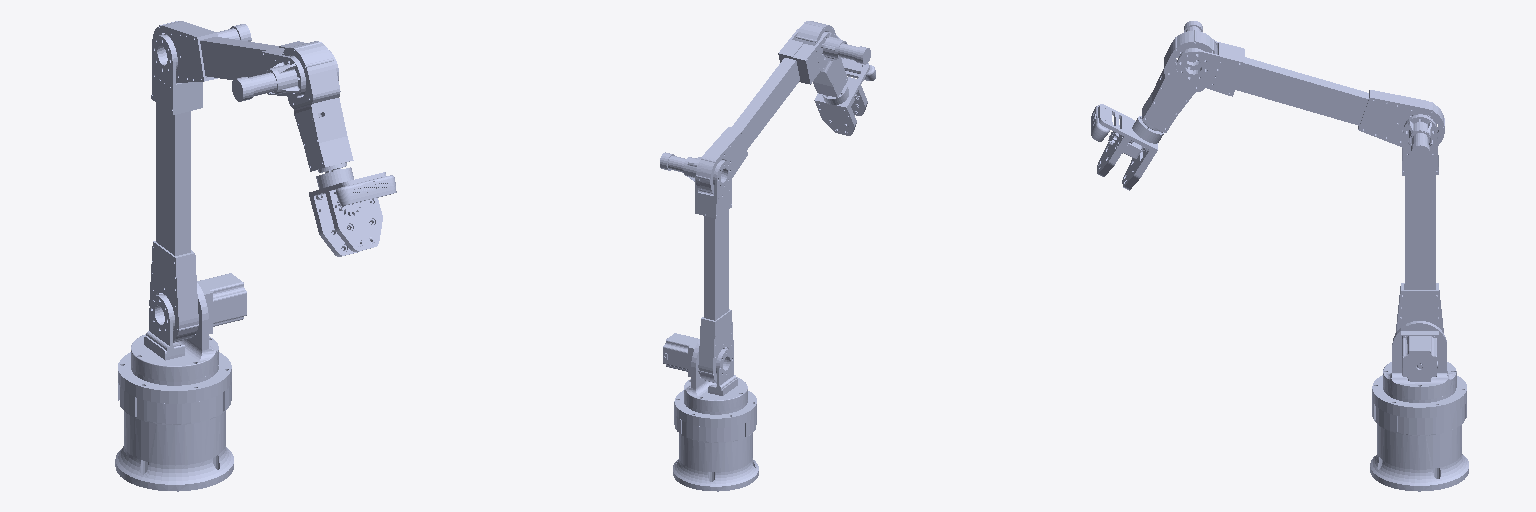
URDF robot description (proxima_manipulator):
<?xml version="1.0" encoding="utf-8"?>
<!-- This URDF was automatically created by SolidWorks to URDF Exporter! Originally created by [author] ([email redacted]) 
     Commit Version: 1.6.0-4-g7f85cfe  Build Version: 1.6.7995.38578
     For more information, please see http://wiki.ros.org/sw_urdf_exporter -->
<robot
  name="proxima_manipulator">
  
  <link name="world"/>
  <joint name="base_joint" type="fixed">
    <parent link="world"/>
    <child link="base_link"/>
    <origin rpy="0 0 3.142" xyz="0.0 0.0 0.0"/>
    </joint>
  
  <link
    name="base_link">
    <inertial>
      <origin
        xyz="5.89900924100442E-07 -5.82635127656639E-07 0.0844077193187946"
        rpy="0 0 0" />
      <mass
        value="1.14715214327679" />
      <inertia
        ixx="0.00297605346011453"
        ixy="-1.28898690956909E-07"
        ixz="-2.94048693205158E-08"
        iyy="0.00297587811058845"
        iyz="3.89686890063112E-08"
        izz="0.00362946503703709" />
    </inertial>
    <visual>
      <origin
        xyz="0 0 0"
        rpy="0 0 0" />
      <geometry>
        <mesh
          filename="package://proxima_manipulator/meshes/base_link.STL" />
      </geometry>
      <material
        name="">
        <color
          rgba="0.792156862745098 0.819607843137255 0.933333333333333 1" />
      </material>
    </visual>
    <collision>
      <origin
        xyz="0 0 0"
        rpy="0 0 0" />
      <geometry>
        <mesh
          filename="package://proxima_manipulator/meshes/base_link.STL" />
      </geometry>
    </collision>
  </link>
  <link
    name="link1">
    <inertial>
      <origin
        xyz="-0.02303554449658 0.0598261439960179 -0.00152128479536754"
        rpy="0 0 0" />
      <mass
        value="0.61136208657295" />
      <inertia
        ixx="0.000676546033753411"
        ixy="6.26097408187564E-05"
        ixz="3.12553110077658E-06"
        iyy="0.000696662466663964"
        iyz="4.15108216757231E-06"
        izz="0.000629760400233308" />
    </inertial>
    <visual>
      <origin
        xyz="0 0 0"
        rpy="0 0 0" />
      <geometry>
        <mesh
          filename="package://proxima_manipulator/meshes/link1.STL" />
      </geometry>
      <material
        name="">
        <color
          rgba="0.792156862745098 0.819607843137255 0.933333333333333 1" />
      </material>
    </visual>
    <collision>
      <origin
        xyz="0 0 0"
        rpy="0 0 0" />
      <geometry>
        <mesh
          filename="package://proxima_manipulator/meshes/link1.STL" />
      </geometry>
    </collision>
  </link>
  <joint
    name="joint1"
    type="revolute">
    <origin
      xyz="0 0 0.139"
      rpy="1.5707963267949 0 0.06638110906424" />
    <parent
      link="base_link" />
    <child
      link="link1" />
    <axis
      xyz="0 1 0" />
    <limit
      lower="0"
      upper="6.28"
      effort="300"
      velocity="3" />
  </joint>
  <link
    name="link2">
    <inertial>
      <origin
        xyz="-0.00216465968461942 -0.0472925206404818 0.230220242332757"
        rpy="0 0 0" />
      <mass
        value="0.38181439972666" />
      <inertia
        ixx="0.000941247684324127"
        ixy="-7.13786139180788E-06"
        ixz="3.91099754328085E-05"
        iyy="0.000840304873940375"
        iyz="0.000132624480798902"
        izz="0.000234385525945225" />
    </inertial>
    <visual>
      <origin
        xyz="0 0 0"
        rpy="0 0 0" />
      <geometry>
        <mesh
          filename="package://proxima_manipulator/meshes/link2.STL" />
      </geometry>
      <material
        name="">
        <color
          rgba="0.792156862745098 0.819607843137255 0.933333333333333 1" />
      </material>
    </visual>
    <collision>
      <origin
        xyz="0 0 0"
        rpy="0 0 0" />
      <geometry>
        <mesh
          filename="package://proxima_manipulator/meshes/link2.STL" />
      </geometry>
    </collision>
  </link>
  <joint
    name="joint2"
    type="revolute">
    <origin
      xyz="0 0.0935000000000001 0"
      rpy="1.36961712465034 0.0798053031468139 -3.07640848847956" />
    <parent
      link="link1" />
    <child
      link="link2" />
    <axis
      xyz="0.997797583094881 0 0.0663323689462047" />
    <limit
      lower="-1.48"
      upper="1.48"
      effort="300"
      velocity="3" />
  </joint>
  <link
    name="link3">
    <inertial>
      <origin
        xyz="-0.0100219656341276 0.246047292844653 0.0090796809436352"
        rpy="0 0 0" />
      <mass
        value="0.427190530217147" />
      <inertia
        ixx="0.000999064602408102"
        ixy="1.05015196942548E-05"
        ixz="6.12464858498111E-06"
        iyy="0.000228416018088118"
        iyz="-2.80475702692715E-05"
        izz="0.000912793058488037" />
    </inertial>
    <visual>
      <origin
        xyz="0 0 0"
        rpy="0 0 0" />
      <geometry>
        <mesh
          filename="package://proxima_manipulator/meshes/link3.STL" />
      </geometry>
      <material
        name="">
        <color
          rgba="0.792156862745098 0.819607843137255 0.933333333333333 1" />
      </material>
    </visual>
    <collision>
      <origin
        xyz="0 0 0"
        rpy="0 0 0" />
      <geometry>
        <mesh
          filename="package://proxima_manipulator/meshes/link3.STL" />
      </geometry>
    </collision>
  </link>
  <joint
    name="joint3"
    type="revolute">
    <origin
      xyz="-0.0252134458726865 -0.0783840441460631 0.379270569601745"
      rpy="2.99496503119234 -0.132055089452266 0.00971288768970507" />
    <parent
      link="link2" />
    <child
      link="link3" />
    <axis
      xyz="-0.997797583094835 0 -0.0663323689468866" />
    <limit
      lower="0"
      upper="2.96"
      effort="300"
      velocity="3" />
  </joint>
  <link
    name="link4">
    <inertial>
      <origin
        xyz="0.00636013910086945 6.35109644103737E-05 -0.0540678200298018"
        rpy="0 0 0" />
      <mass
        value="0.215390527753128" />
      <inertia
        ixx="0.000531350146196299"
        ixy="-7.37094030599829E-08"
        ixz="3.11549425204286E-05"
        iyy="0.000443875407065724"
        iyz="6.99835184177799E-07"
        izz="0.00011169485430132" />
    </inertial>
    <visual>
      <origin
        xyz="0 0 0"
        rpy="0 0 0" />
      <geometry>
        <mesh
          filename="package://proxima_manipulator/meshes/link4.STL" />
      </geometry>
      <material
        name="">
        <color
          rgba="0.792156862745098 0.819607843137255 0.933333333333333 1" />
      </material>
    </visual>
    <collision>
      <origin
        xyz="0 0 0"
        rpy="0 0 0" />
      <geometry>
        <mesh
          filename="package://proxima_manipulator/meshes/link4.STL" />
      </geometry>
    </collision>
  </link>
  <joint
    name="joint4"
    type="revolute">
    <origin
      xyz="-0.0010238 0.3878 0.0154"
      rpy="-2.9772 0.00089664 3.1307" />
    <parent
      link="link3" />
    <child
      link="link4" />
    <axis
      xyz="-0.99766 -0.00042801 -0.06837" />
    <limit
      lower="-2.84"
      upper="0"
      effort="300"
      velocity="3" />
  </joint>
  <link
    name="link5">
    <inertial>
      <origin
        xyz="0.00371786712021055 0.0233212511324778 -0.116194159187654"
        rpy="0 0 0" />
      <mass
        value="0.246635487348744" />
      <inertia
        ixx="0.000125362493056336"
        ixy="-4.92252749696487E-06"
        ixz="-1.17763756881474E-06"
        iyy="0.000175814678569274"
        iyz="-2.79929590483174E-07"
        izz="0.000136642700304457" />
    </inertial>
    <visual>
      <origin
        xyz="0 0 0"
        rpy="0 0 0" />
      <geometry>
        <mesh
          filename="package://proxima_manipulator/meshes/link5.STL" />
      </geometry>
      <material
        name="">
        <color
          rgba="0.792156862745098 0.819607843137255 0.933333333333333 1" />
      </material>
    </visual>
    <collision>
      <origin
        xyz="0 0 0"
        rpy="0 0 0" />
      <geometry>
        <mesh
          filename="package://proxima_manipulator/meshes/link5.STL" />
      </geometry>
    </collision>
  </link>
  <joint
    name="joint5"
    type="revolute">
    <origin
      xyz="0.00785440188739083 0.000169987875987765 -0.0683995354267096"
      rpy="0.0054593051623277 0.000428982055095075 -0.0823393113788932" />
    <parent
      link="link4" />
    <child
      link="link5" />
    <axis
      xyz="0.0663321663033525 0.00247182816787439 -0.997794534851245" />
    <limit
      lower="0"
      upper="6.28"
      effort="300"
      velocity="3" />
  </joint>
  <link
    name="link6">
    <inertial>
      <origin
        xyz="-0.000152328366238796 0.00158515196790932 -6.19972051277284E-06"
        rpy="0 0 0" />
      <mass
        value="0.00360273828231165" />
      <inertia
        ixx="2.82282719153219E-07"
        ixy="-2.27094022502872E-08"
        ixz="6.44224708059163E-09"
        iyy="5.16678537642924E-07"
        iyz="-3.93868589772816E-10"
        izz="2.59870298318397E-07" />
    </inertial>
    <visual>
      <origin
        xyz="0 0 0"
        rpy="0 0 0" />
      <geometry>
        <mesh
          filename="package://proxima_manipulator/meshes/link6.STL" />
      </geometry>
      <material
        name="">
        <color
          rgba="0.792156862745098 0.819607843137255 0.933333333333333 1" />
      </material>
    </visual>
    <collision>
      <origin
        xyz="0 0 0"
        rpy="0 0 0" />
      <geometry>
        <mesh
          filename="package://proxima_manipulator/meshes/link6.STL" />
      </geometry>
    </collision>
  </link>
  <joint
    name="joint6"
    type="revolute">
    <origin
      xyz="0.012473 0.040866 -0.11678"
      rpy="-0.048992 0.46738 -0.013527" />
    <parent
      link="link5" />
    <child
      link="link6" />
    <axis
      xyz="-0.095656 0.99541 -0.0038932" />
    <limit
      lower="0"
      upper="3.14"
      effort="300"
      velocity="3" />
  </joint>

  <transmission name="tran1">
    <type>transmission_interface/SimpleTransmission</type>
     <joint name="joint1">
     <hardwareInterface>hardware_interface/PositionJointInterface</hardwareInterface>
     </joint>
     <actuator name="motor1">
     <hardwareInterface>hardware_interface/PositionJointInterface</hardwareInterface>
     <mechanicalReduction>1</mechanicalReduction>
     </actuator>
     </transmission>
 
     <transmission name="tran2">
    <type>transmission_interface/SimpleTransmission</type>
     <joint name="joint2">
     <hardwareInterface>hardware_interface/PositionJointInterface</hardwareInterface>
     </joint>
     <actuator name="motor2">
     <hardwareInterface>hardware_interface/PositionJointInterface</hardwareInterface>
     <mechanicalReduction>1</mechanicalReduction>
     </actuator>
     </transmission>
 
     <transmission name="tran3">
    <type>transmission_interface/SimpleTransmission</type>
     <joint name="joint3">
     <hardwareInterface>hardware_interface/PositionJointInterface</hardwareInterface>
     </joint>
     <actuator name="motor3">
     <hardwareInterface>hardware_interface/PositionJointInterface</hardwareInterface>
     <mechanicalReduction>1</mechanicalReduction>
     </actuator>
     </transmission>
 
     <transmission name="tran4">
    <type>transmission_interface/SimpleTransmission</type>
     <joint name="joint4">
     <hardwareInterface>hardware_interface/PositionJointInterface</hardwareInterface>
     </joint>
     <actuator name="motor4">
     <hardwareInterface>hardware_interface/PositionJointInterface</hardwareInterface>
     <mechanicalReduction>1</mechanicalReduction>
     </actuator>
     </transmission>
 
     <transmission name="tran5">
    <type>transmission_interface/SimpleTransmission</type>
     <joint name="joint5">
     <hardwareInterface>hardware_interface/PositionJointInterface</hardwareInterface>
     </joint>
     <actuator name="motor5">
     <hardwareInterface>hardware_interface/PositionJointInterface</hardwareInterface>
     <mechanicalReduction>1</mechanicalReduction>
     </actuator>
     </transmission>
 
     <transmission name="tran6">
    <type>transmission_interface/SimpleTransmission</type>
     <joint name="joint6">
     <hardwareInterface>hardware_interface/PositionJointInterface</hardwareInterface>
     </joint>
     <actuator name="motor6">
     <hardwareInterface>hardware_interface/PositionJointInterface</hardwareInterface>
     <mechanicalReduction>1</mechanicalReduction>
     </actuator>
     </transmission>
 
     <gazebo>
   <plugin name="gazebo_ros_control" filename="libgazebo_ros_control.so">
     <robotNamespace>/</robotNamespace>
   </plugin>
 </gazebo>
 
 <gazebo reference="link1">
   <selfCollide>true</selfCollide>
   </gazebo>
 
   <gazebo reference="link2">
   <selfCollide>true</selfCollide>
   </gazebo>
 
   <gazebo reference="link3">
   <selfCollide>true</selfCollide>
   </gazebo>
 
   <gazebo reference="link4">
   <selfCollide>true</selfCollide>
   </gazebo>
 
   <gazebo reference="link5">
   <selfCollide>true</selfCollide>
   </gazebo>
 
   <gazebo reference="link6">
   <selfCollide>true</selfCollide>
   </gazebo>
 
 
 </robot>

--- Render facts (derived) ---
Views: 3 orthographic renders of the robot side by side, from view 1: azimuth 30°, elevation 25°; view 2: azimuth 150°, elevation 25°; view 3: azimuth 270°, elevation 25°.
Robot: proxima_manipulator — 8 links, 7 joints (6 revolute, 1 fixed); root link world; default pose: every joint at zero.
Visible links, largest first — view 1: base_link, link2, link1, link3, link4, link5; view 2: base_link, link3, link2, link1, link5, link4; view 3: link3, base_link, link2, link1, link5, link4.
Boxes of the visible links, x1,y1,x2,y2 form: base_link: (115, 352, 233, 491); link2: (149, 24, 251, 342); link1: (131, 273, 246, 385); link3: (152, 21, 338, 101); link4: (282, 41, 353, 173); link5: (309, 167, 396, 256); base_link: (673, 390, 758, 491); link3: (696, 27, 870, 194); link2: (660, 152, 733, 383); link1: (663, 333, 747, 414); link5: (814, 58, 875, 135); link4: (795, 21, 847, 97); link3: (1177, 21, 1444, 147); base_link: (1370, 375, 1468, 491); link2: (1395, 114, 1443, 333); link1: (1383, 321, 1456, 402); link5: (1091, 104, 1163, 190); link4: (1142, 30, 1217, 132).
Bounding box of the posed robot: 0.2262 × 0.6168 × 0.7806 m (x, y, z).
7 mesh visuals loaded from 7 distinct referenced files (7 binary STL).